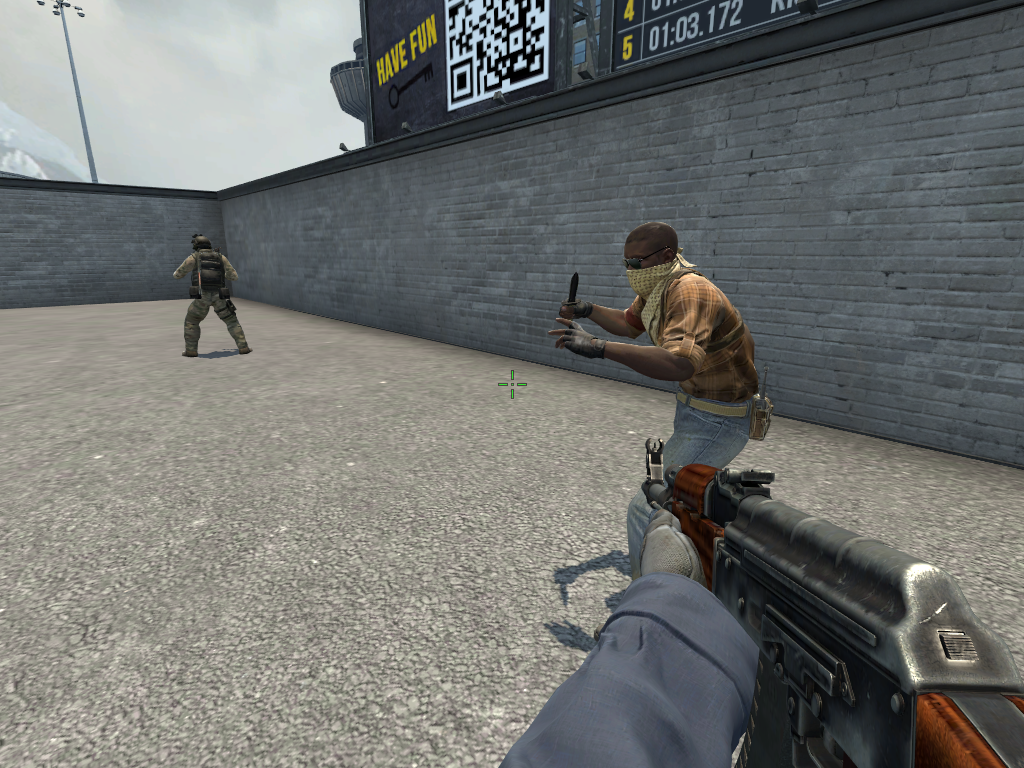ct head: (189, 232, 215, 255)
tr head: (622, 217, 681, 298)
